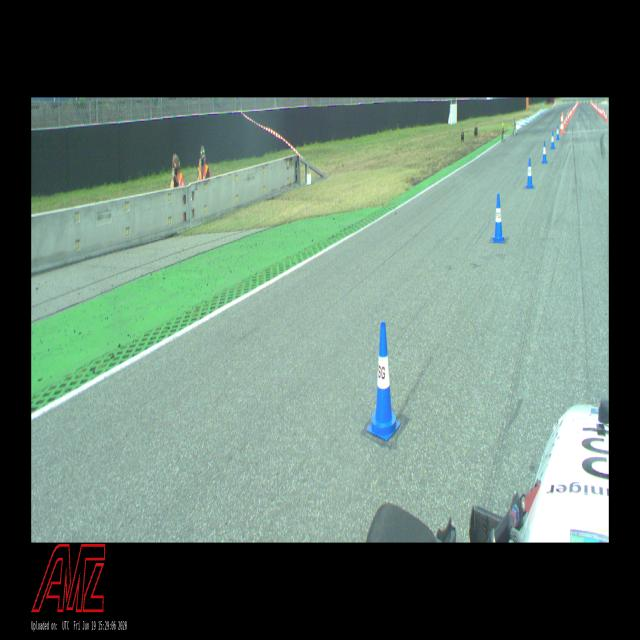blue_cone: (367, 322, 400, 441), (493, 194, 504, 242), (526, 158, 533, 188), (542, 141, 547, 163), (550, 131, 554, 149), (556, 126, 559, 140)
large_orange_cone: (560, 112, 564, 134)
orange_cone: (605, 112, 607, 122), (564, 117, 566, 127), (566, 114, 568, 124)
